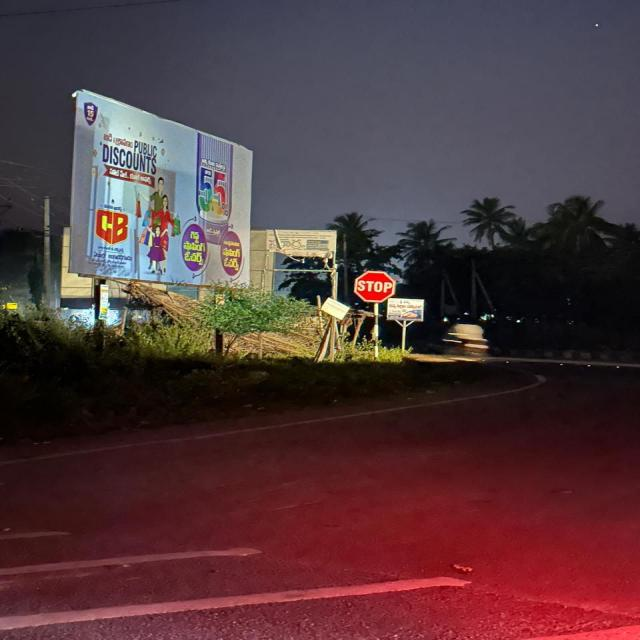stop: (350, 274, 406, 306)
